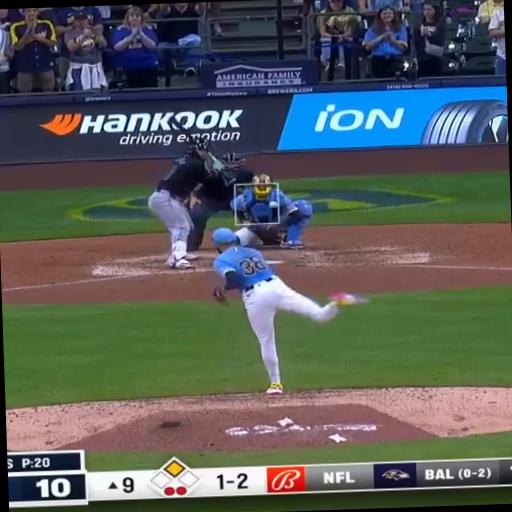bat: (168, 114, 191, 138)
